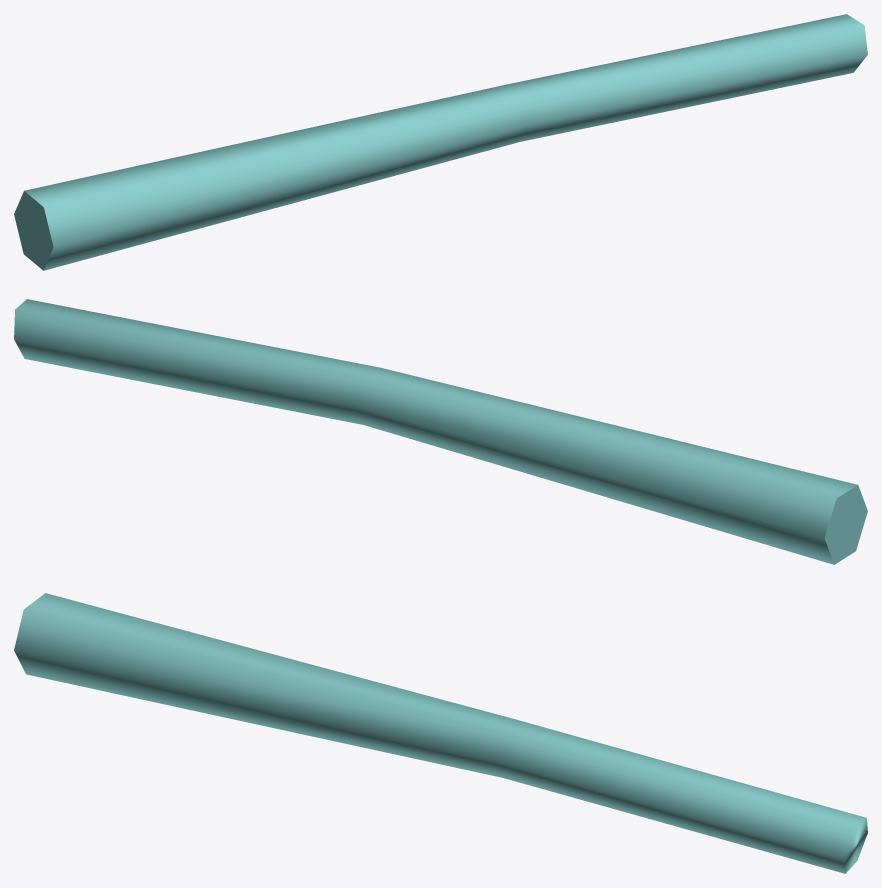
File: Branch1.FBX
The picture shows the model from 3 angles, top to bottom: view 1: azimuth 30°, elevation 25°; view 2: azimuth 150°, elevation 25°; view 3: azimuth 330°, elevation 25°; orthographic projection.
Parts seen in each view (by area): view 1: brunch_1; view 2: brunch_1; view 3: brunch_1.
Boxes of the visible parts, bbox=[...] form: brunch_1: bbox=[14, 14, 867, 270]; brunch_1: bbox=[14, 299, 867, 564]; brunch_1: bbox=[14, 593, 867, 873].
Size of the model in its own units: 135 by 10.39 by 11.85.
